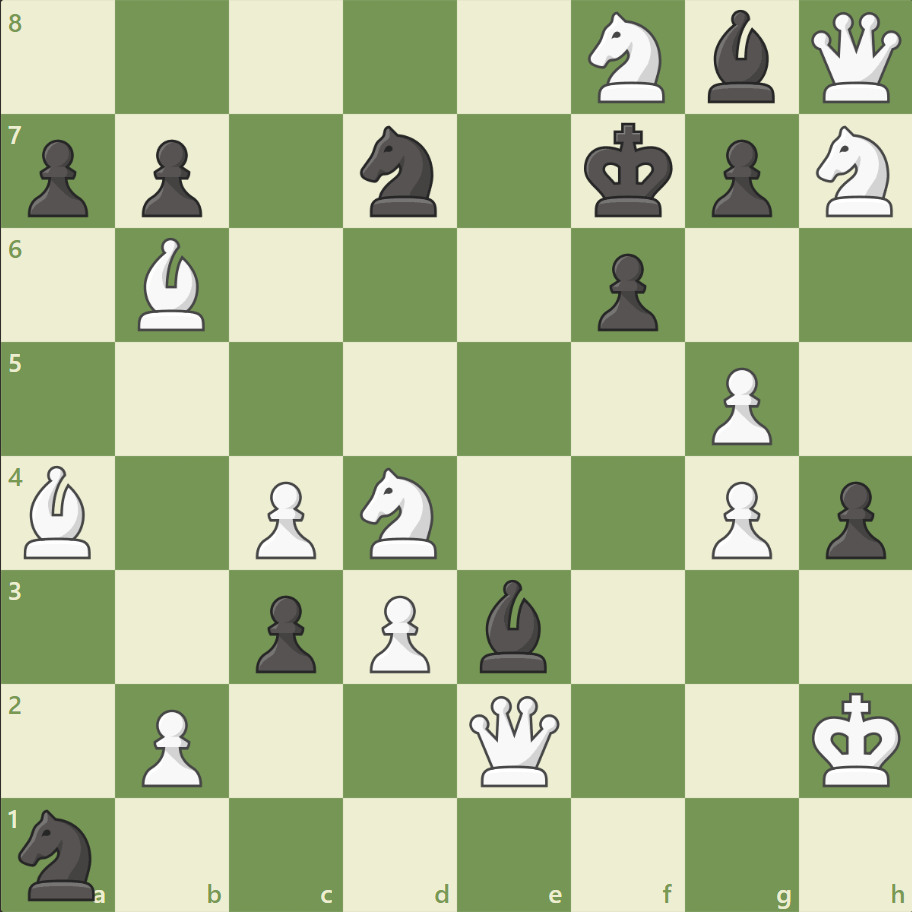B: (131, 233, 215, 336), (17, 460, 101, 563)
K: (806, 685, 906, 793)
N: (351, 461, 449, 564), (579, 7, 676, 110), (806, 121, 903, 223)
P: (701, 359, 776, 450), (247, 473, 322, 564), (701, 473, 776, 564), (133, 700, 208, 791), (361, 586, 435, 677)
Q: (805, 9, 904, 108), (464, 690, 563, 789)
b: (698, 6, 782, 109), (471, 574, 555, 676)
k: (579, 117, 679, 225)
n: (351, 121, 449, 223), (11, 802, 108, 904)
p: (20, 132, 95, 223), (133, 132, 208, 223), (701, 132, 776, 223), (247, 586, 322, 677), (588, 246, 662, 337), (815, 473, 889, 564)
